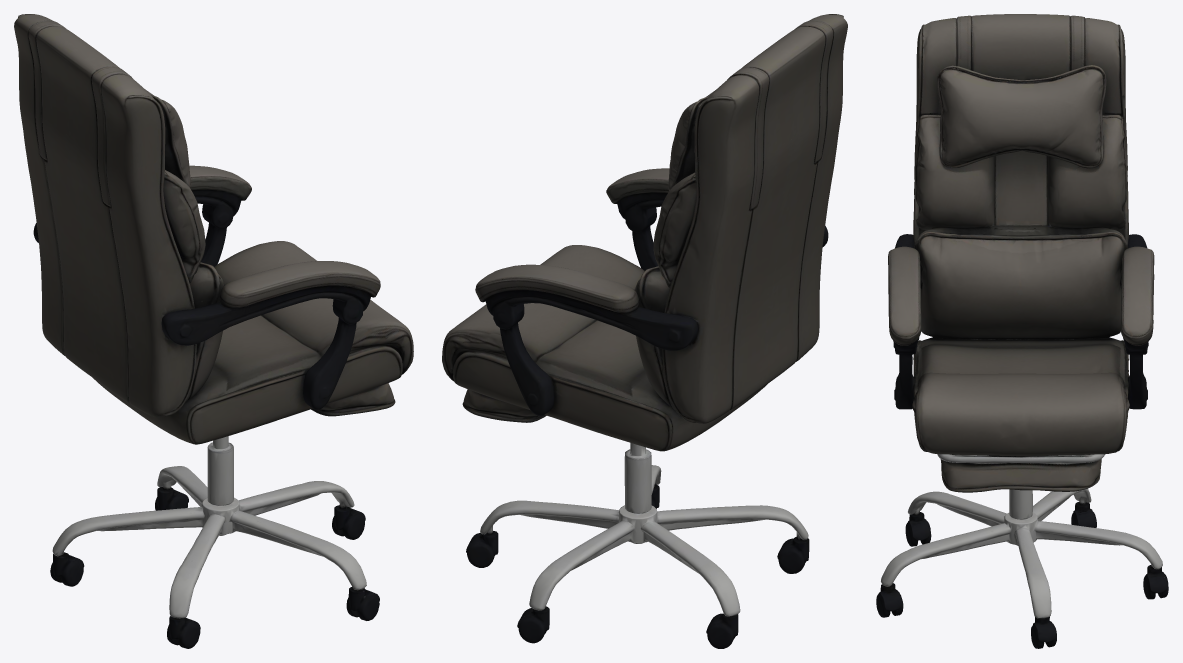
The model's file is office_chair.glb.
The picture shows the model from 3 angles, left to right: view 1: azimuth 30°, elevation 25°; view 2: azimuth 150°, elevation 25°; view 3: azimuth 270°, elevation 25°; orthographic projection. The views are drawn at different scales.
Visible parts, largest first — view 1: tripo_node_7035b29b-88ef-4422-bd0c-de4ba4f4f2d8; view 2: tripo_node_7035b29b-88ef-4422-bd0c-de4ba4f4f2d8; view 3: tripo_node_7035b29b-88ef-4422-bd0c-de4ba4f4f2d8.
Boxes of the visible parts, x1=… form: tripo_node_7035b29b-88ef-4422-bd0c-de4ba4f4f2d8: x1=14, y1=14, x2=413, y2=648; tripo_node_7035b29b-88ef-4422-bd0c-de4ba4f4f2d8: x1=442, y1=14, x2=847, y2=648; tripo_node_7035b29b-88ef-4422-bd0c-de4ba4f4f2d8: x1=876, y1=14, x2=1168, y2=648.
Bounding box in the file's own units: 0.5757 × 1 × 0.5226.
Materials: 1 (1 with a texture image).
